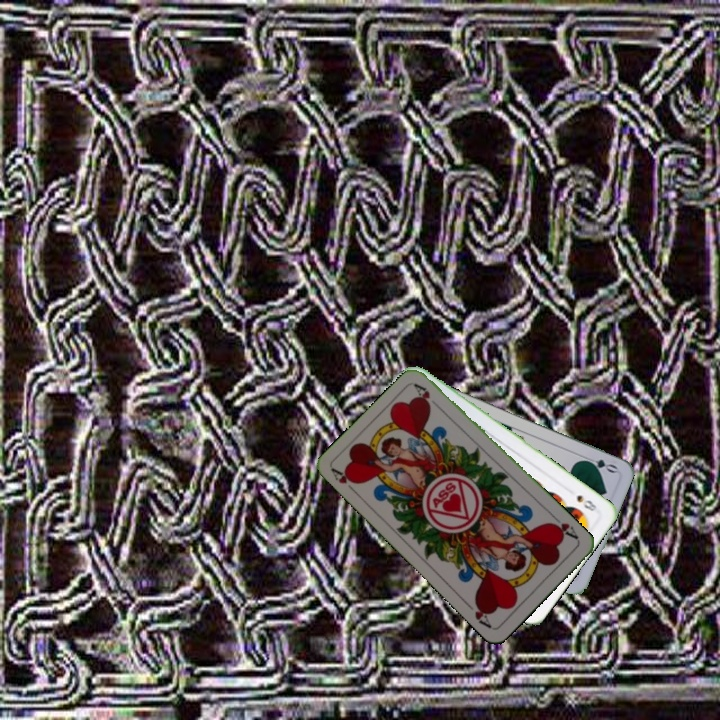GO: (579, 452, 620, 476)
HA: (545, 512, 581, 542), (328, 465, 361, 497)
S8: (572, 491, 600, 515)
